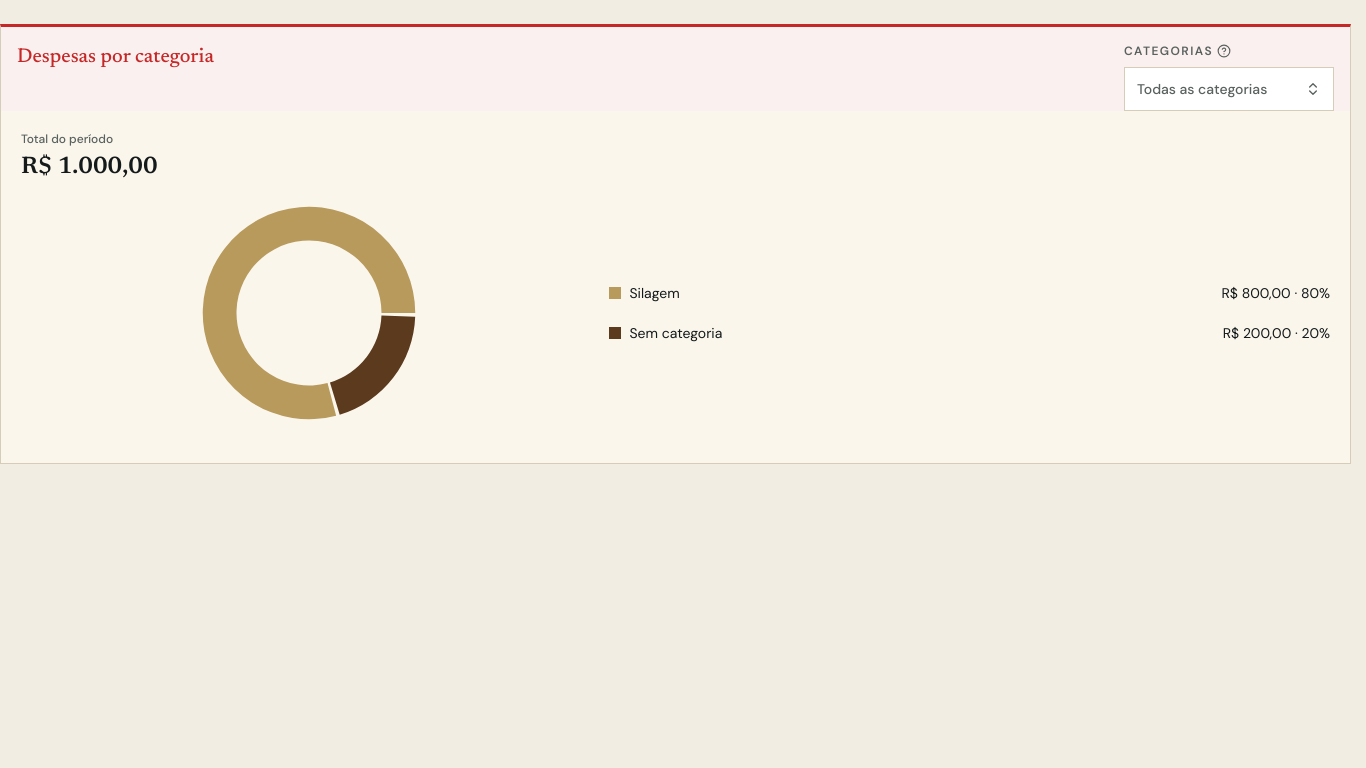
pagina lançamentos mantendo o total completo
Click the button with aria-label "Detalhar Silagem".
click(655, 293)  # box [609, 279, 1330, 307]
(page scrolled)
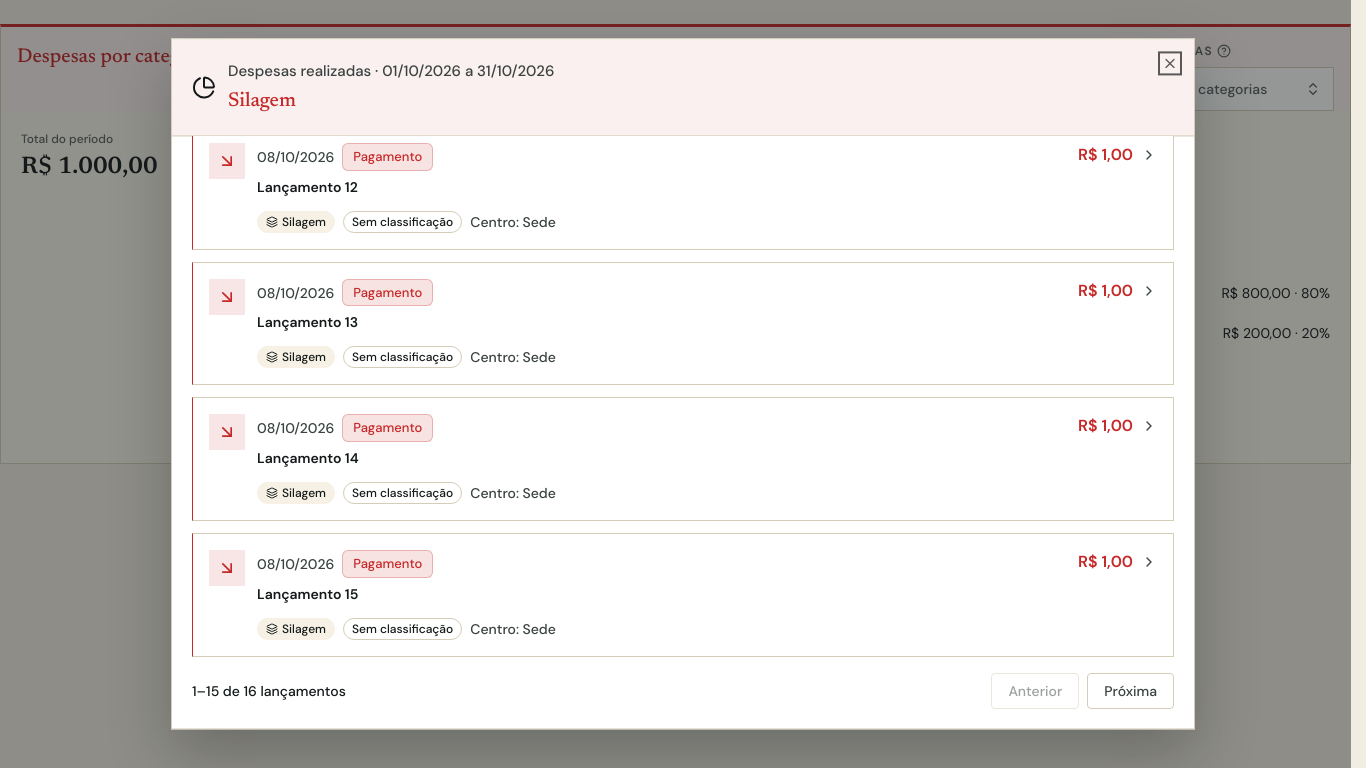
Check: the text "Lançamento 16" is not shown
Check: the text "1–15 de 16 lançamentos" is shown, box [192, 681, 346, 701]
Click the button "Próxima".
click(1131, 691)  # box [1087, 673, 1174, 709]
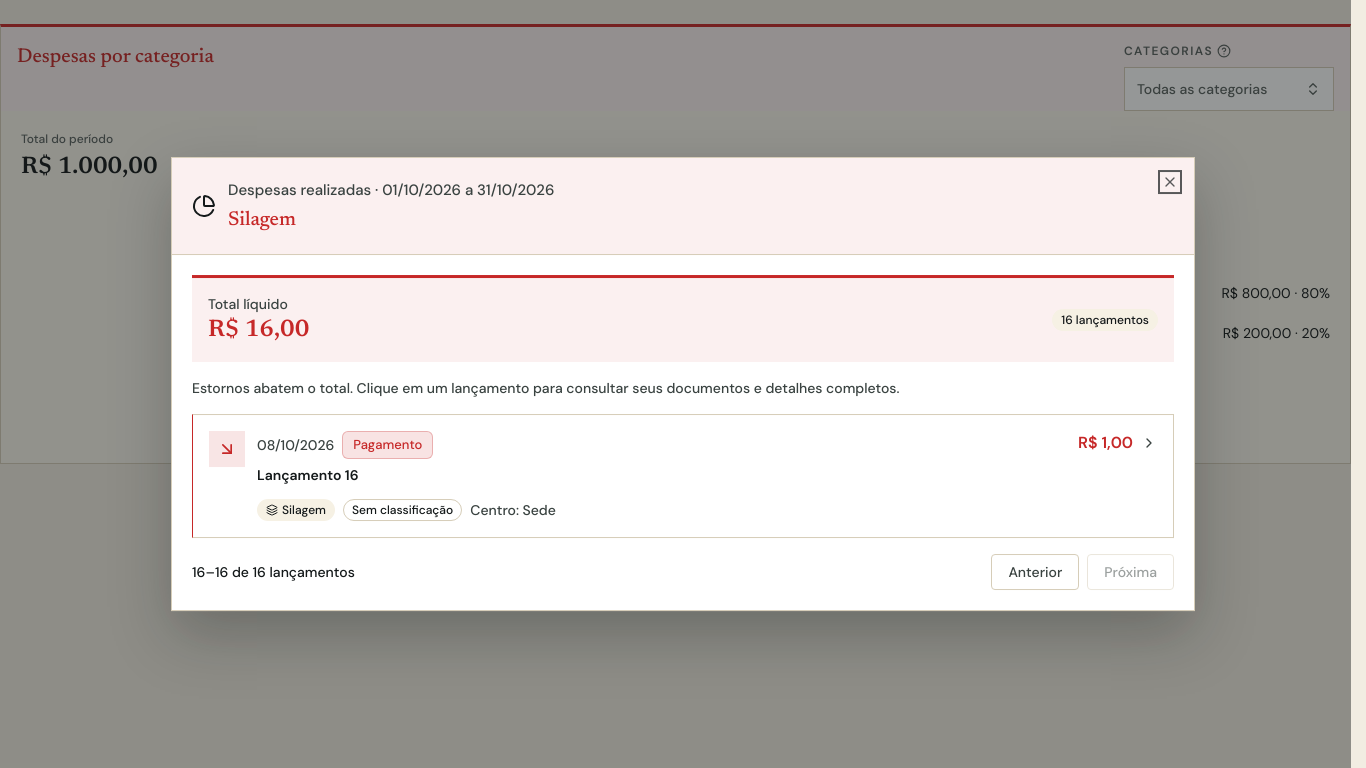
Check: the text "Lançamento 16" is shown, box [257, 466, 359, 484]
Check: the text "R$ 16,00" is shown, box [208, 318, 309, 342]
